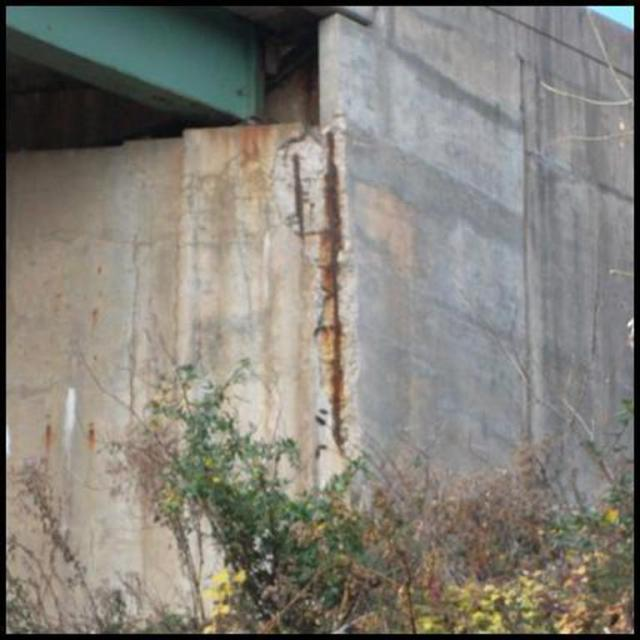spalling: (268, 116, 362, 464)
